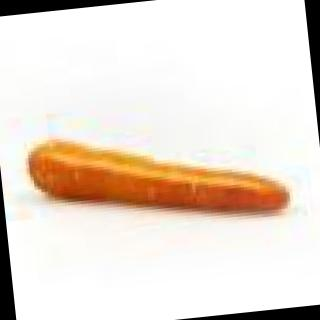Wortel: (1, 97, 291, 263)
